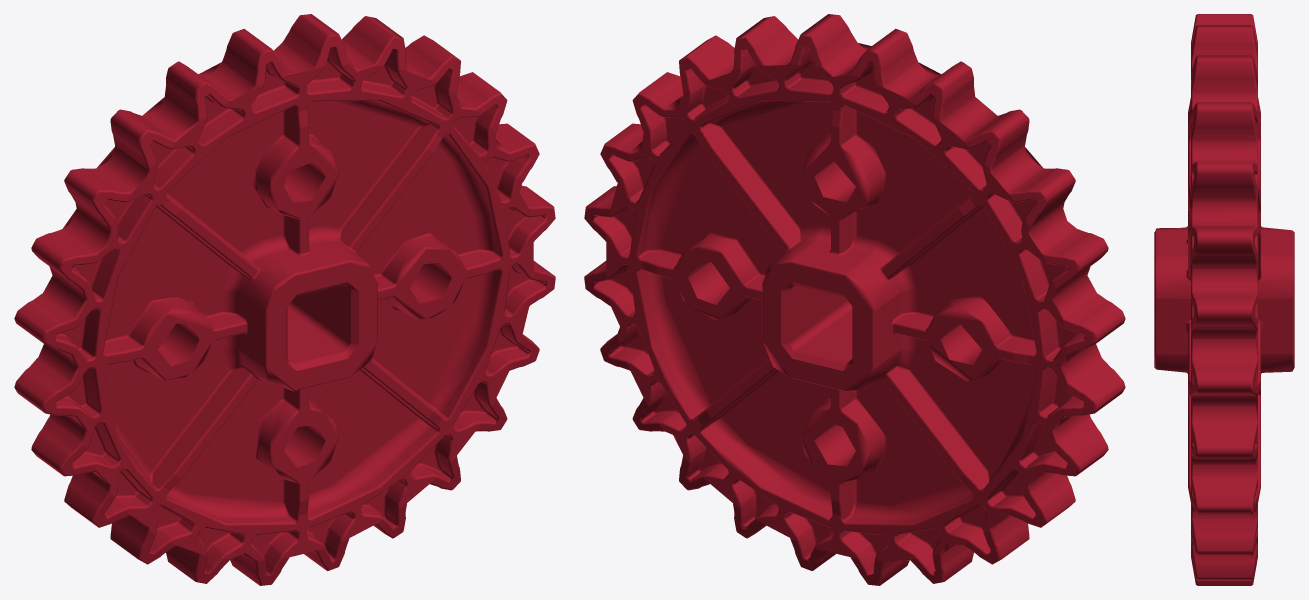
3 views of the same model, side by side, from view 1: azimuth 30°, elevation 25°; view 2: azimuth 150°, elevation 25°; view 3: azimuth 270°, elevation 25° (orthographic). The views are drawn at different scales.
Parts seen in each view (by area): view 1: 276-8030-003 Rev2; view 2: 276-8030-003 Rev2; view 3: 276-8030-003 Rev2.
Boxes of the visible parts, x1,y1,x2,y2 form: 276-8030-003 Rev2: (14,14,555,585); 276-8030-003 Rev2: (584,14,1125,585); 276-8030-003 Rev2: (1154,14,1294,585).
Size of the model in its own units: 51.76 by 51.56 by 12.7.
